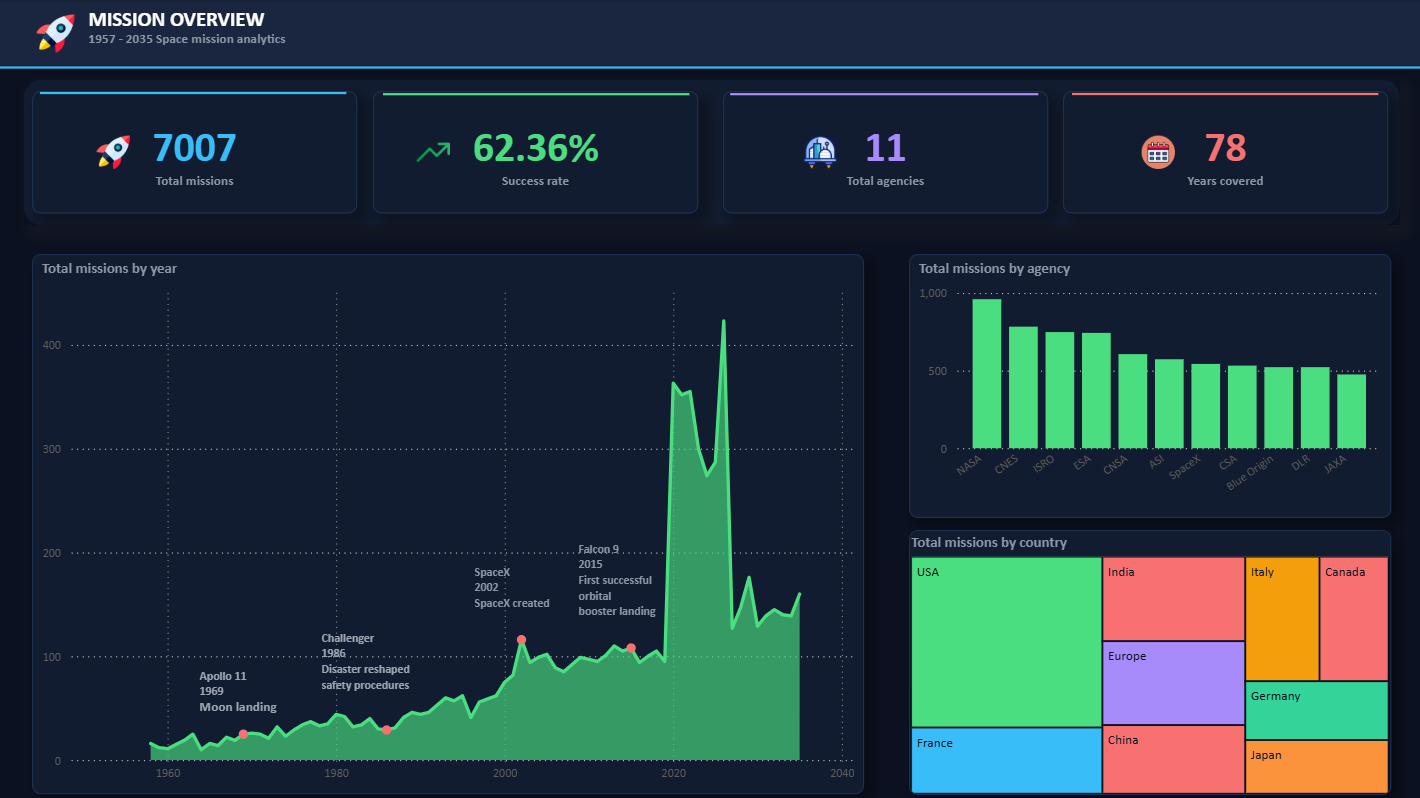

Layout of this report page (visuals, bound fields, positions):
{"tool":"powerbi","page":{"name":"Overview","canvas":[1280,720],"ordinal":0},"visuals":[{"type":"shape","box":[0,0,1280,59.3],"z":0},{"type":"shape","box":[22.4,72,1235.3,130.3],"z":1000},{"type":"card","fields":{"Values":["_measures.Total Missions"]},"box":[29.2,81.7,292,110],"z":2000},{"type":"card","fields":{"Values":["_measures.Success Rate2"]},"box":[336,81.7,292,110],"z":3000},{"type":"card","fields":{"Values":["_measures.Total Agencies"]},"box":[650,81.9,292,110],"z":4000},{"type":"card","fields":{"Values":["_measures.Years Covered"]},"box":[955,82,292,110],"z":5000},{"type":"stackedAreaChart","title":"Total missions by year","fields":{"Category":["public vw_dashboard_facts.year"],"Y":["Count(public vw_dashboard_facts.mission_id)"]},"box":[29.2,227.6,747,485.3],"z":6000},{"type":"clusteredColumnChart","title":"Total missions by agency","fields":{"Category":["public vw_dashboard_facts.agency_name"],"Y":["CountNonNull(public vw_dashboard_facts.mission_id)"]},"box":[817,227.6,432.8,237.3],"z":7000},{"type":"treemap","title":"Total missions by country","fields":{"Group":["public vw_dashboard_facts.country_region"],"Values":["CountNonNull(public vw_dashboard_facts.mission_id)"]},"box":[817.3,475.4,432.5,237.7],"z":8000},{"type":"textbox","box":[75,0,600,59],"z":9000},{"type":"image","box":[29,8,44,44],"z":10000},{"type":"shape","box":[0,8,1280,105],"z":11000},{"type":"shape","box":[344.3,36,275.3,97.3],"z":12000},{"type":"shape","box":[656.5,36,277.2,97.3],"z":13000},{"type":"shape","box":[963,36,275,97],"z":14000},{"type":"image","box":[83,117,40,40],"z":15000},{"type":"image","box":[370,117,40,40],"z":16000},{"type":"image","box":[717,117,40,40],"z":17000},{"type":"image","box":[1021,117,40,40],"z":18000},{"type":"textbox","box":[175,594,81,60],"z":19000},{"type":"textbox","box":[285,560,105,71],"z":20000},{"type":"textbox","box":[515,480,104,80],"z":21000},{"type":"textbox","box":[422,501,93,59],"z":22000},{"type":"shape","box":[37,35,275,97],"z":23000}]}

Visuals, with their boxes in screenshot pixels (x1, y1, x2, y2), scaled from the page's 1280x720 canvas onto the 1420x798 screenshot:
shape: l=0, t=0, r=1419, b=66
shape: l=25, t=80, r=1395, b=224
card - _measures.Total Missions: l=32, t=91, r=356, b=212
card - _measures.Success Rate2: l=373, t=91, r=697, b=212
card - _measures.Total Agencies: l=721, t=91, r=1045, b=213
card - _measures.Years Covered: l=1059, t=91, r=1383, b=213
"Total missions by year" stackedAreaChart: l=32, t=252, r=861, b=790
"Total missions by agency" clusteredColumnChart: l=906, t=252, r=1386, b=515
"Total missions by country" treemap: l=907, t=527, r=1386, b=790
textbox: l=83, t=0, r=749, b=65
image: l=32, t=9, r=81, b=58
shape: l=0, t=9, r=1419, b=125
shape: l=382, t=40, r=687, b=148
shape: l=728, t=40, r=1036, b=148
shape: l=1068, t=40, r=1373, b=147
image: l=92, t=130, r=136, b=174
image: l=410, t=130, r=455, b=174
image: l=795, t=130, r=840, b=174
image: l=1133, t=130, r=1177, b=174
textbox: l=194, t=658, r=284, b=725
textbox: l=316, t=621, r=433, b=699
textbox: l=571, t=532, r=687, b=621
textbox: l=468, t=555, r=571, b=621
shape: l=41, t=39, r=346, b=146
